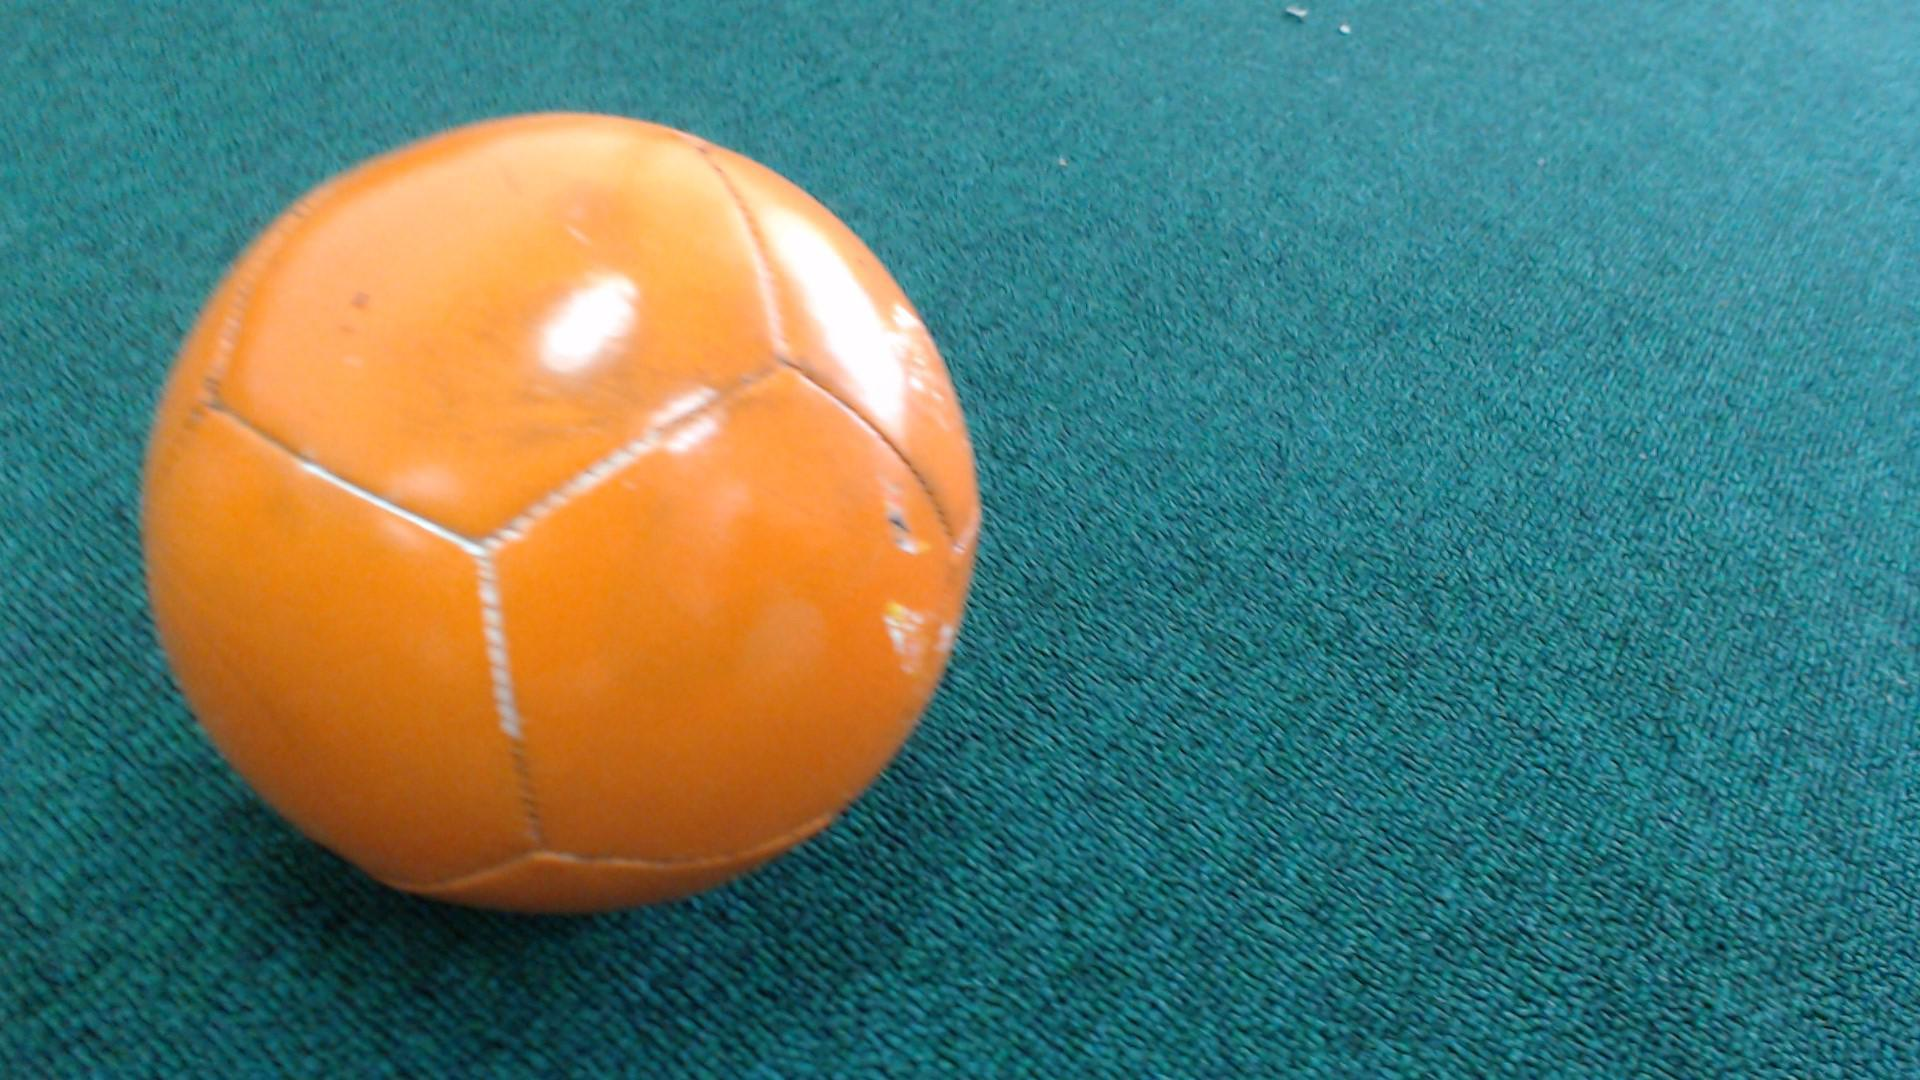bola: (128, 88, 1014, 955)
